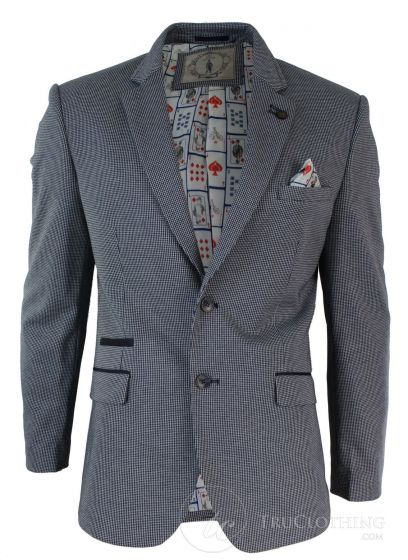F_W_suit jacket: (23, 18, 394, 535)
